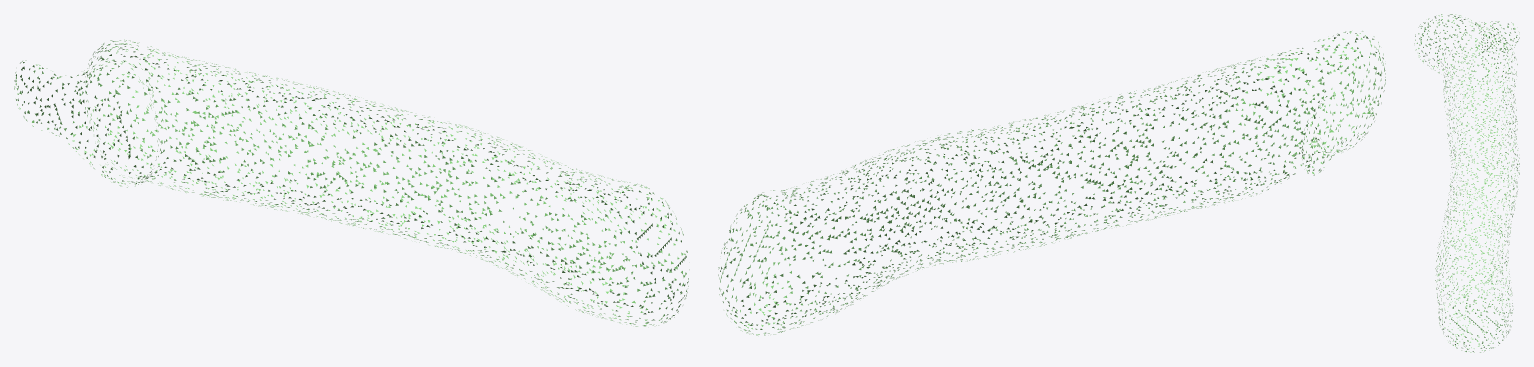
Rendered from morph_016.glb.
3 renders of one model, left to right at view 1: azimuth 30°, elevation 25°; view 2: azimuth 150°, elevation 25°; view 3: azimuth 270°, elevation 25°, orthographic. The views are drawn at different scales.
Size of the model in its own units: 139 by 88.31 by 41.75.
